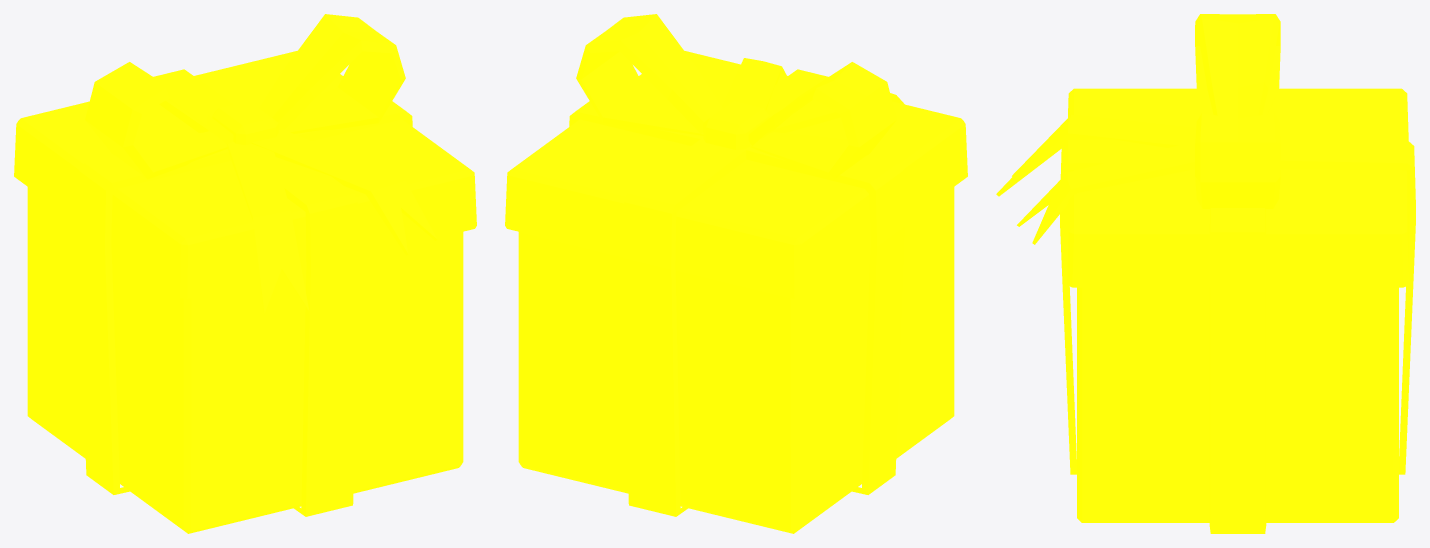
Rendered from gift-christmas-cube-d.glb.
3 renders of one model, left to right at view 1: azimuth 30°, elevation 25°; view 2: azimuth 150°, elevation 25°; view 3: azimuth 270°, elevation 25°, orthographic.
Parts seen in each view (by area): view 1: gift_christmas_cube_d; view 2: gift_christmas_cube_d; view 3: gift_christmas_cube_d.
Part boxes in pixels (left/top/right/bottom): gift_christmas_cube_d: left=14, top=14, right=476, bottom=533; gift_christmas_cube_d: left=505, top=14, right=967, bottom=533; gift_christmas_cube_d: left=996, top=14, right=1415, bottom=533.
Bounding box in the file's own units: 0.3317 × 0.4116 × 0.3912.
1 material, 1 textured.
